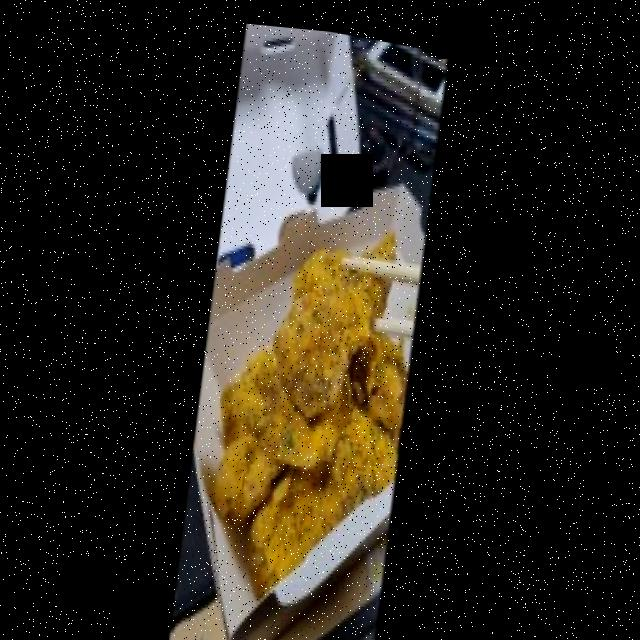Frango: (202, 218, 423, 602)
